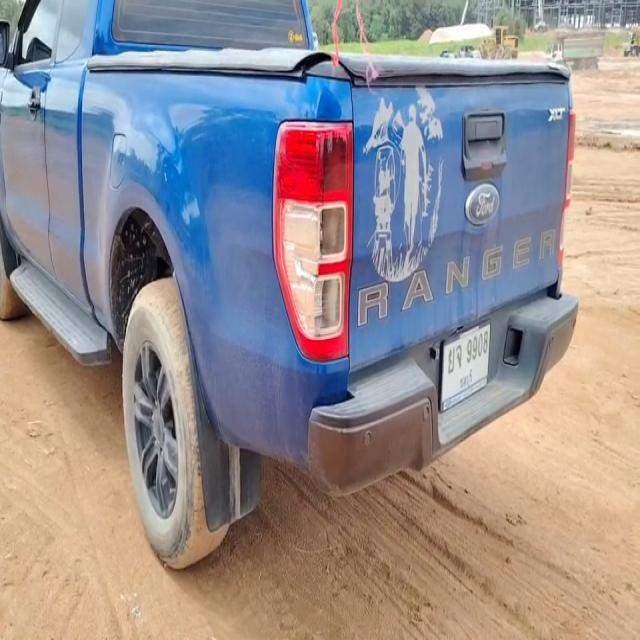Digit: (467, 328, 487, 363)
Licenseplate: (439, 319, 492, 413)
Provincename: (458, 369, 474, 392)
Thaichar: (447, 339, 462, 372)
